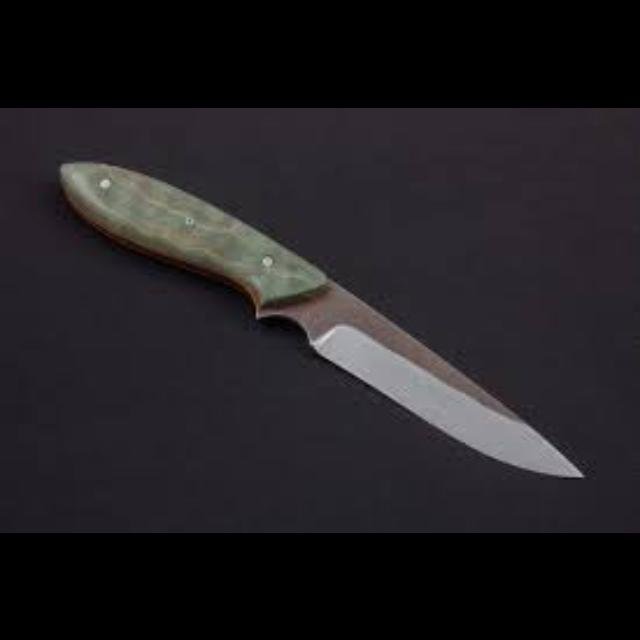knife: (56, 157, 584, 480)
